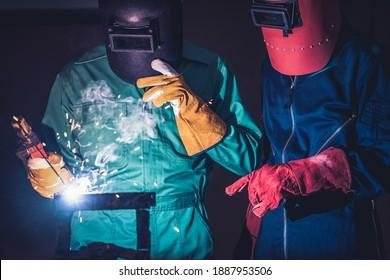gloves: (223, 146, 352, 218), (136, 56, 227, 157)
